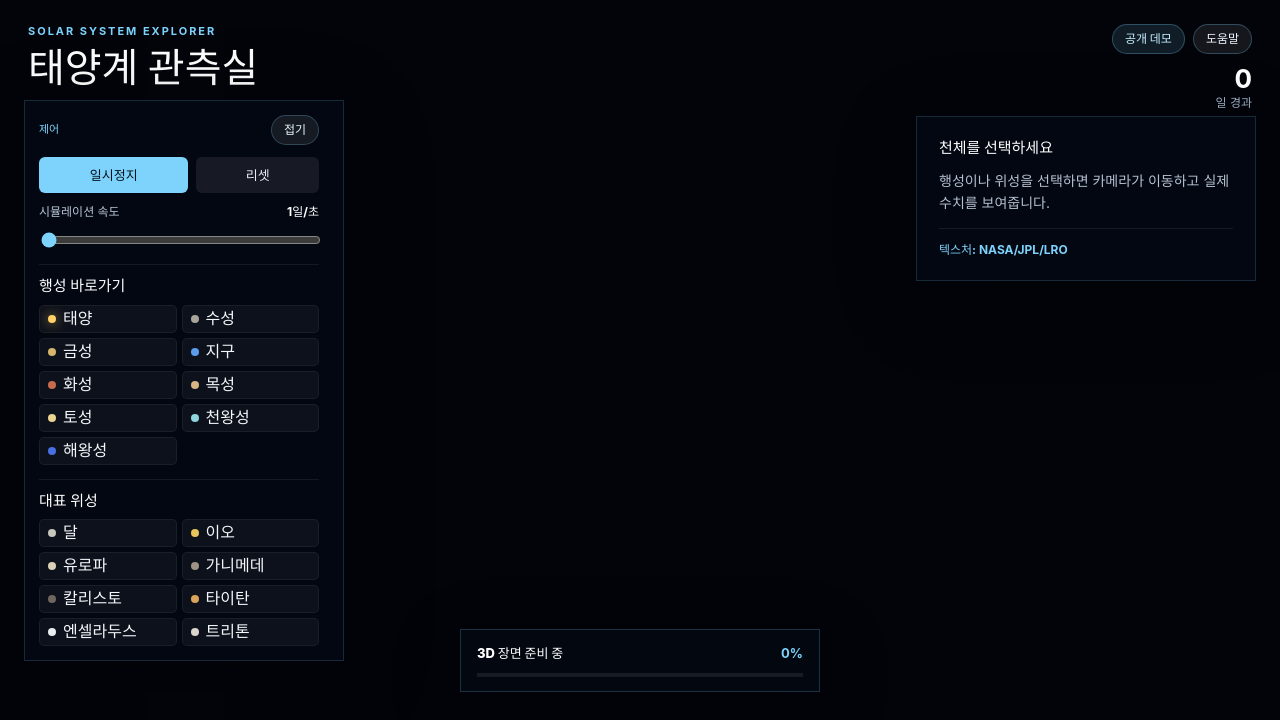
Scenario: App › opens a concise usage guide for public demo visitors
What coordinates should you click on to do the following:
click the button with aria-label "도움말 열기"
I would click on:
 (1222, 39)
Its box is [1193,24,1252,54].
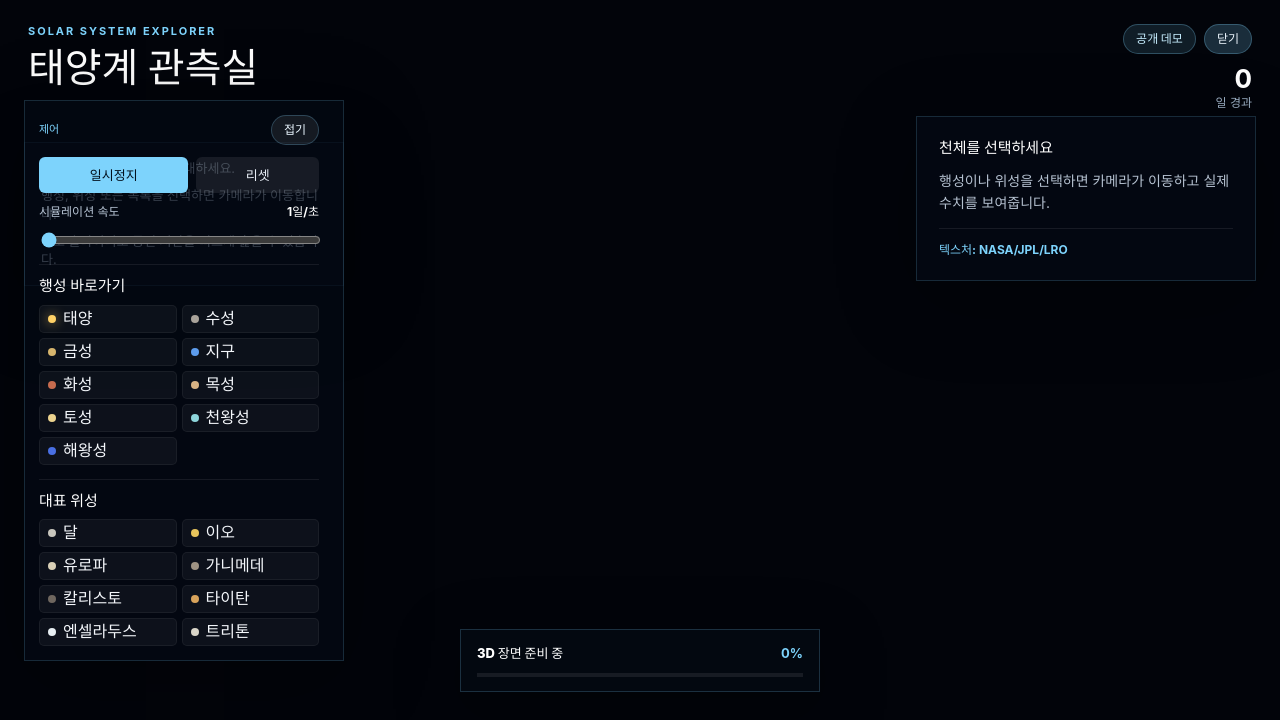
Expected: the text "마우스로 회전하고 휠로 확대하세요." is shown, [41,160,235,176]
Expected: the text "행성, 위성 또는 목록을 선택하면 카메라가 이동합니다." is shown, [41,186,327,224]
Expected: the button with aria-label "도움말 닫기" is shown, [1204,24,1252,54]
